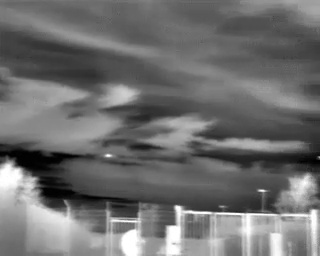HELICOPTER: (101, 150, 116, 162)
